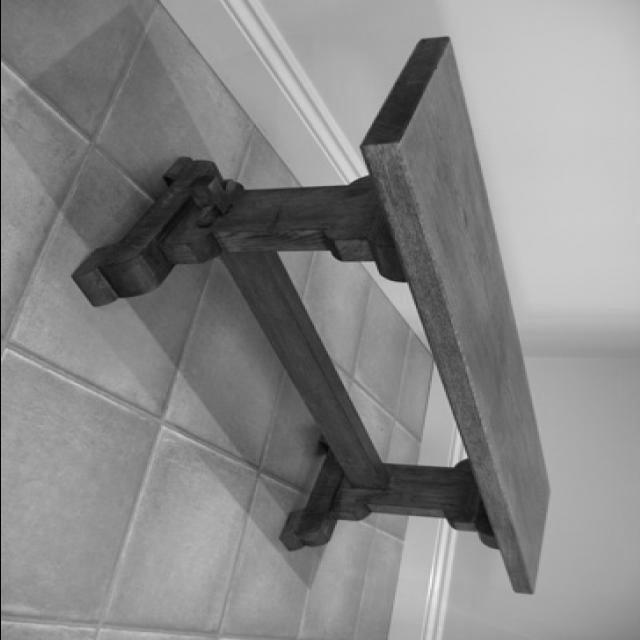table: (74, 39, 550, 592)
